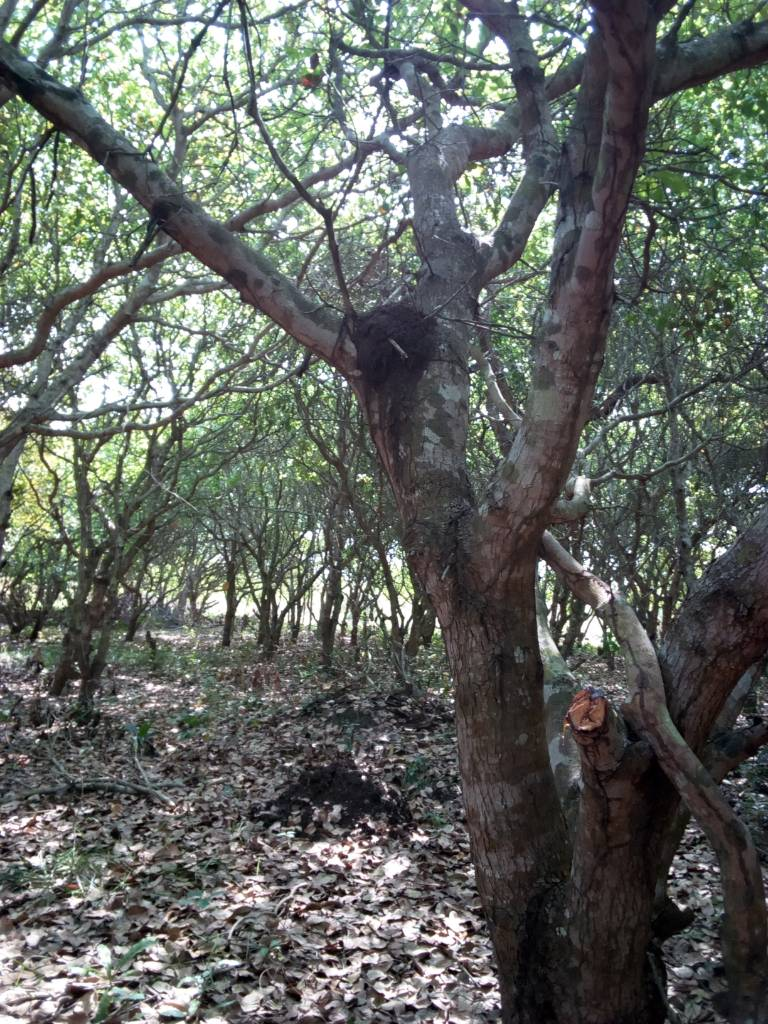Termites: (347, 300, 438, 382)
